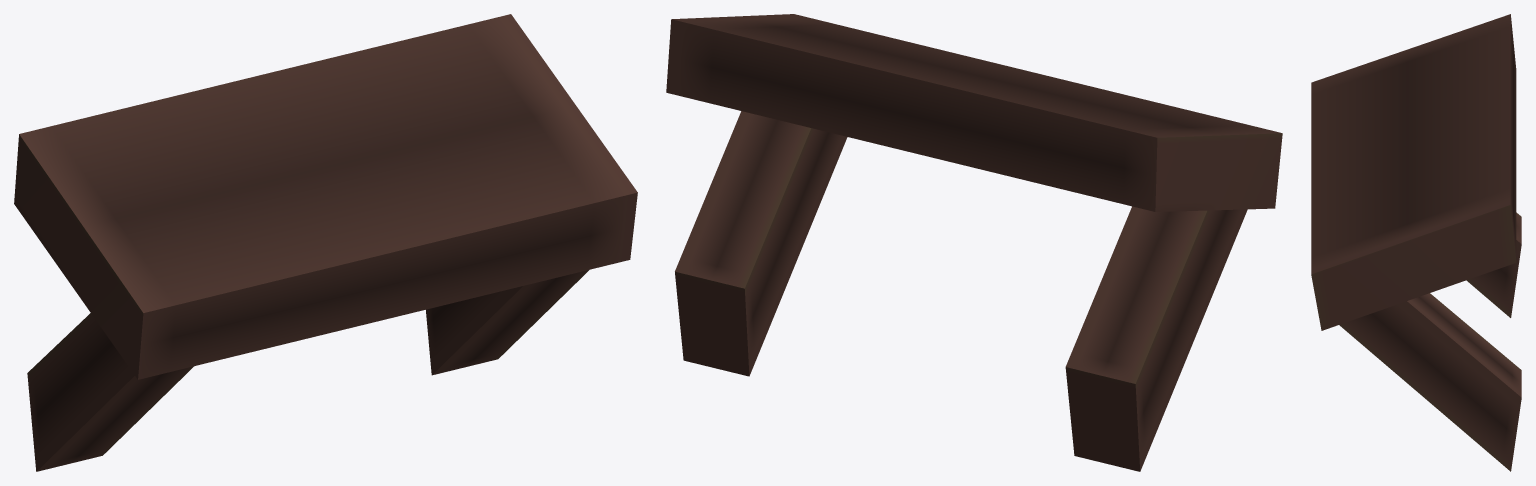
Rendered from parasol_v1_001.fbx.
3 renders of one model, left to right at view 1: azimuth 30°, elevation 25°; view 2: azimuth 150°, elevation 25°; view 3: azimuth 270°, elevation 25°, orthographic. The views are drawn at different scales.
Parts seen in each view (by area): view 1: parasol_v1_001; view 2: parasol_v1_001; view 3: parasol_v1_001.
Part boxes in pixels (x1,y1,x2,y2): parasol_v1_001: [14, 14, 637, 471]; parasol_v1_001: [666, 14, 1282, 471]; parasol_v1_001: [1311, 14, 1521, 471].
Size of the model in its own units: 131 by 86.63 by 60.78.
